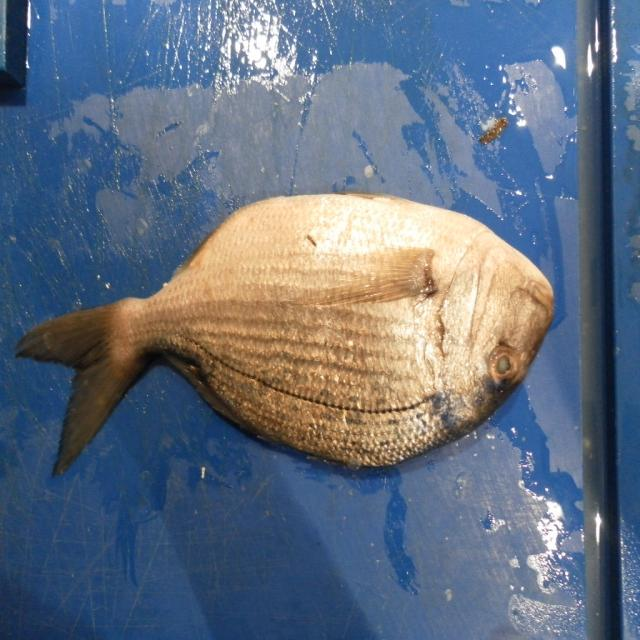Red-Sea-Bream-mercan-: (14, 194, 555, 478)
